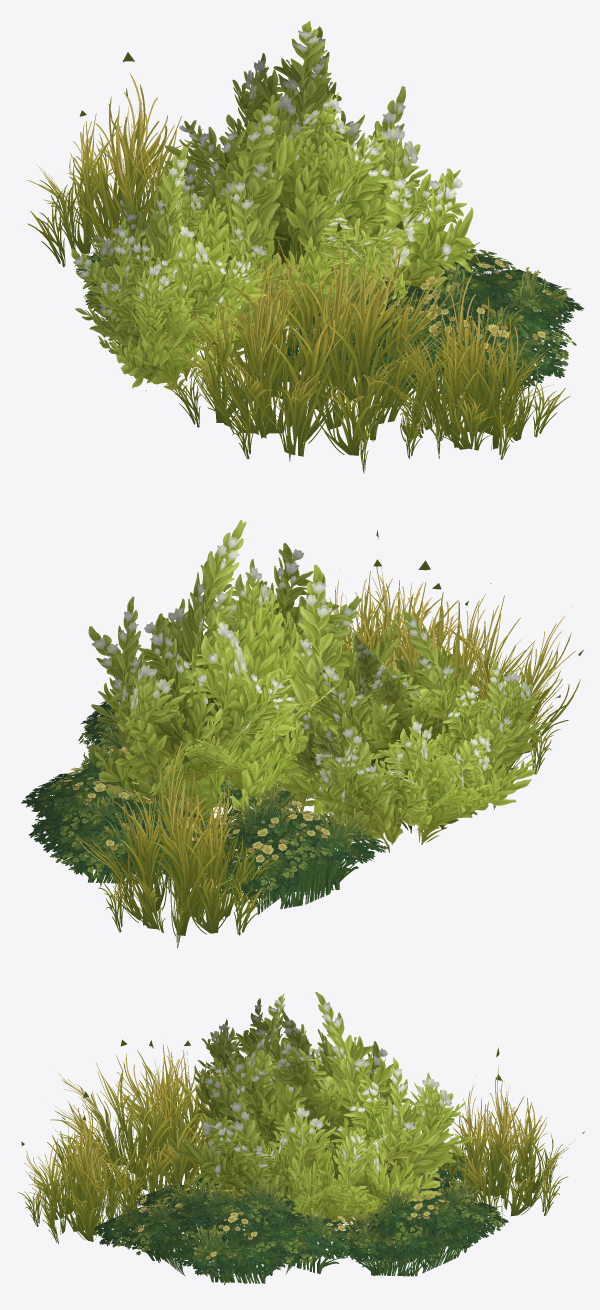
The picture shows the model from 3 angles, top to bottom: view 1: azimuth 30°, elevation 25°; view 2: azimuth 150°, elevation 25°; view 3: azimuth 270°, elevation 25°; orthographic projection. The views are drawn at different scales.
Size of the model in its own units: 11.74 by 8.15 by 16.84.
3 materials, 3 textured.
